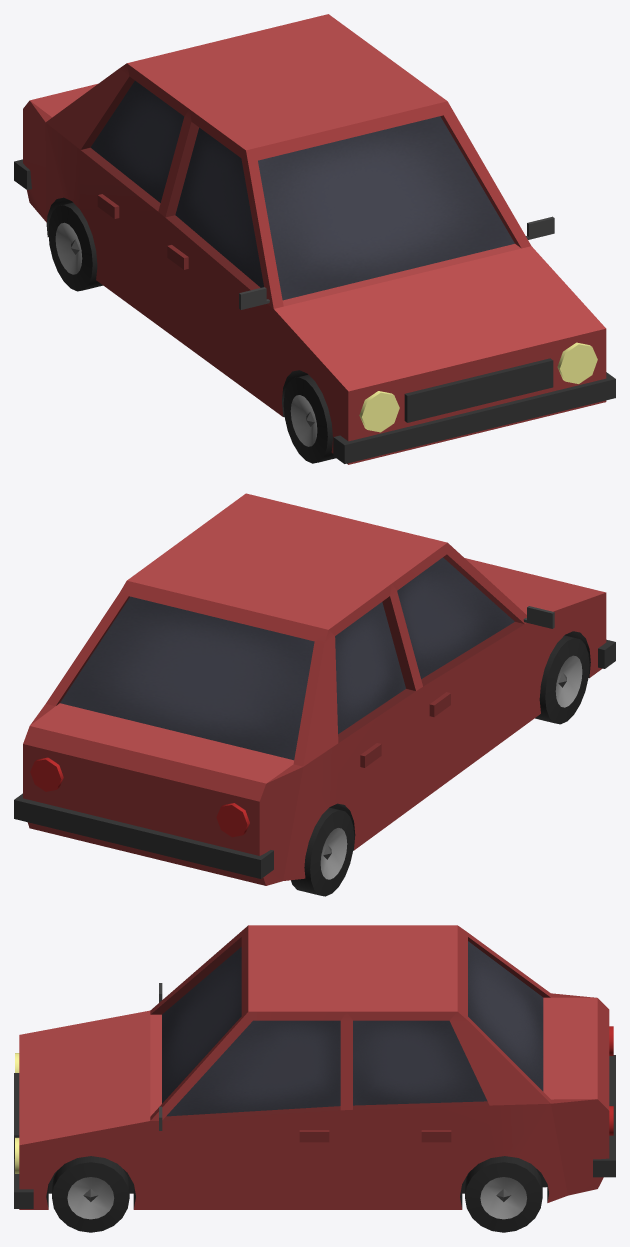
File: Car_C1.fbx
The picture shows the model from 3 angles, top to bottom: view 1: azimuth 30°, elevation 25°; view 2: azimuth 150°, elevation 25°; view 3: azimuth 270°, elevation 25°; orthographic projection. The views are drawn at different scales.
Visible parts, largest first — view 1: Car3_Body, Car3_RF, Car3_RR; view 2: Car3_Body, Car3_RR, Car3_RF; view 3: Car3_Body, Car3_LF, Car3_LR.
Boxes of the visible parts, box(x1,y1,x2,y2) form: Car3_Body: box(14, 14, 615, 464); Car3_RF: box(283, 374, 335, 463); Car3_RR: box(48, 202, 102, 291); Car3_Body: box(14, 493, 615, 885); Car3_RR: box(291, 807, 354, 896); Car3_RF: box(535, 635, 589, 724); Car3_Body: box(14, 925, 615, 1209); Car3_LF: box(52, 1156, 129, 1232); Car3_LR: box(465, 1156, 542, 1232).
Size of the model in its own units: 191 by 138 by 362.
Materials: 1 (1 with a texture image).
